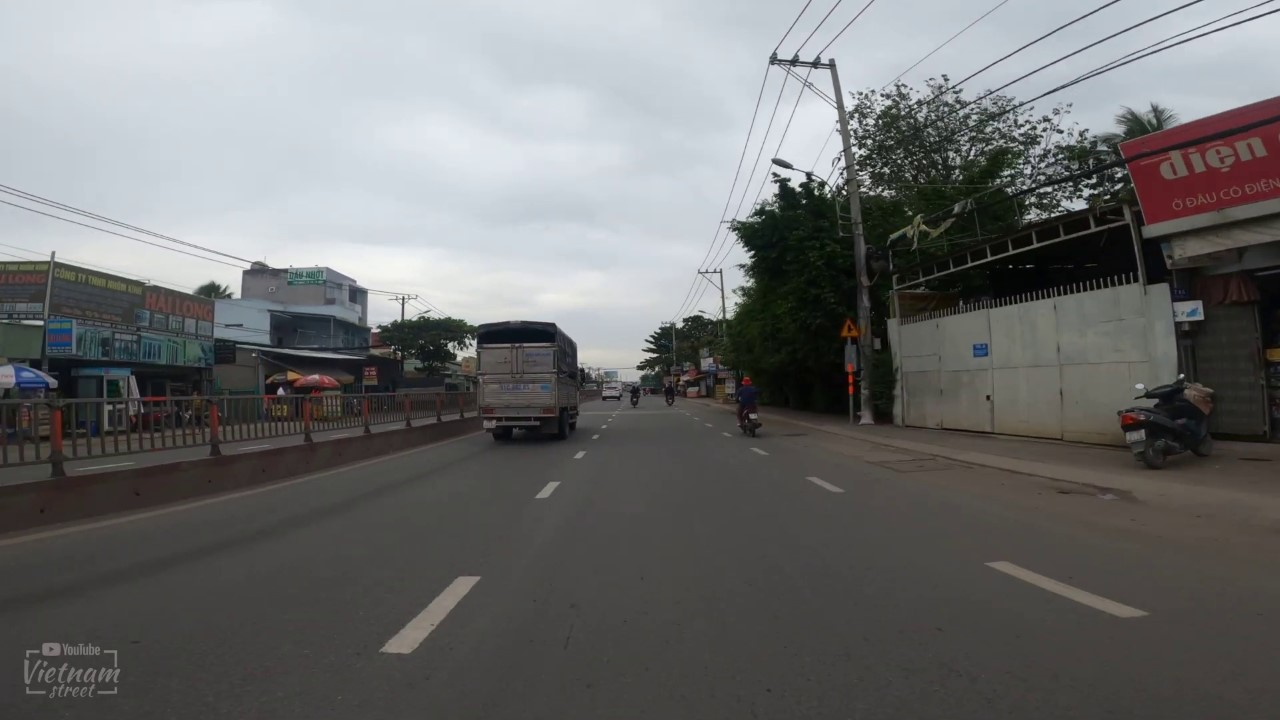giao_khong_uu_tien_phai: (839, 317, 860, 338)
